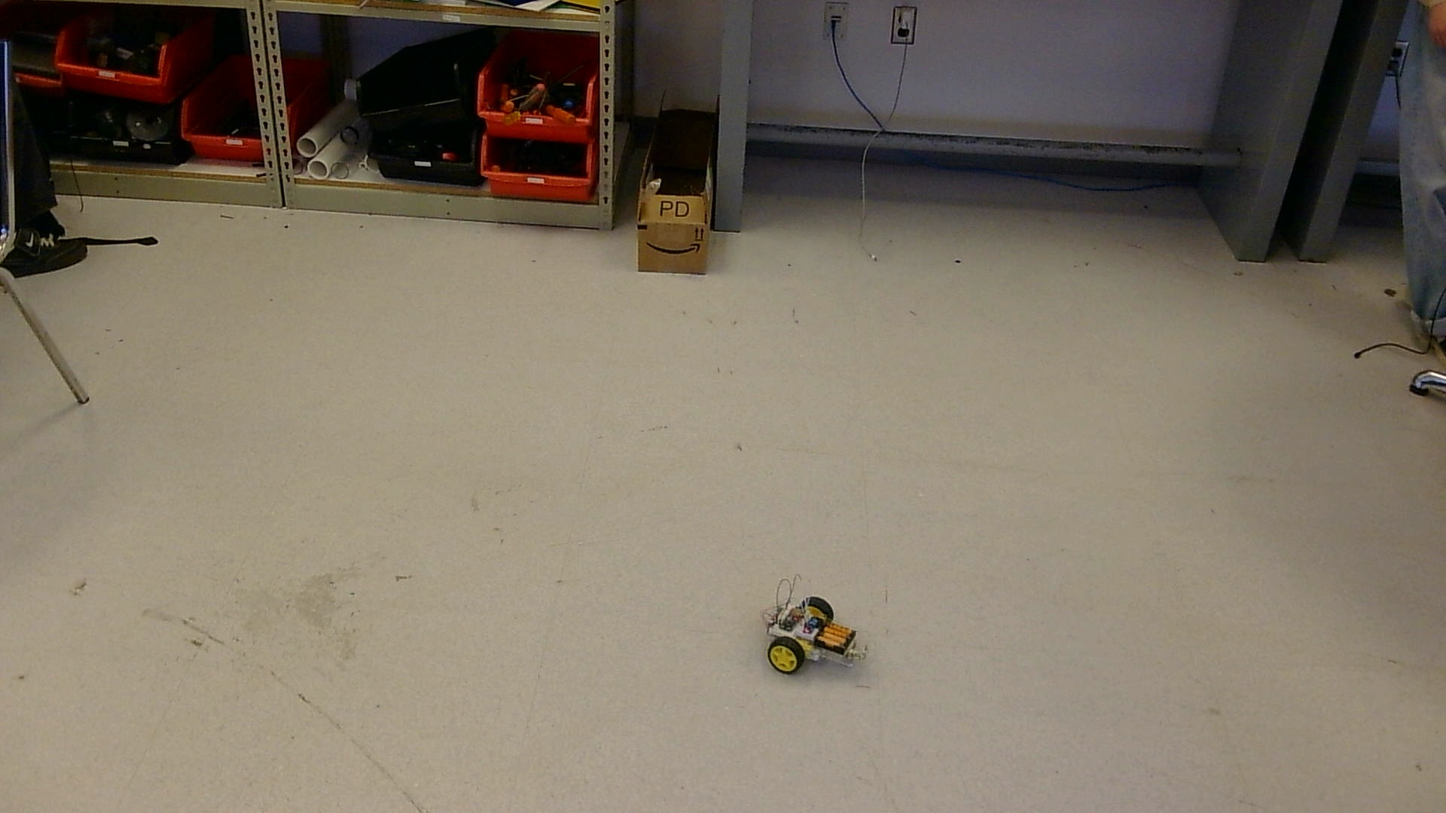robot: (763, 593, 866, 673)
